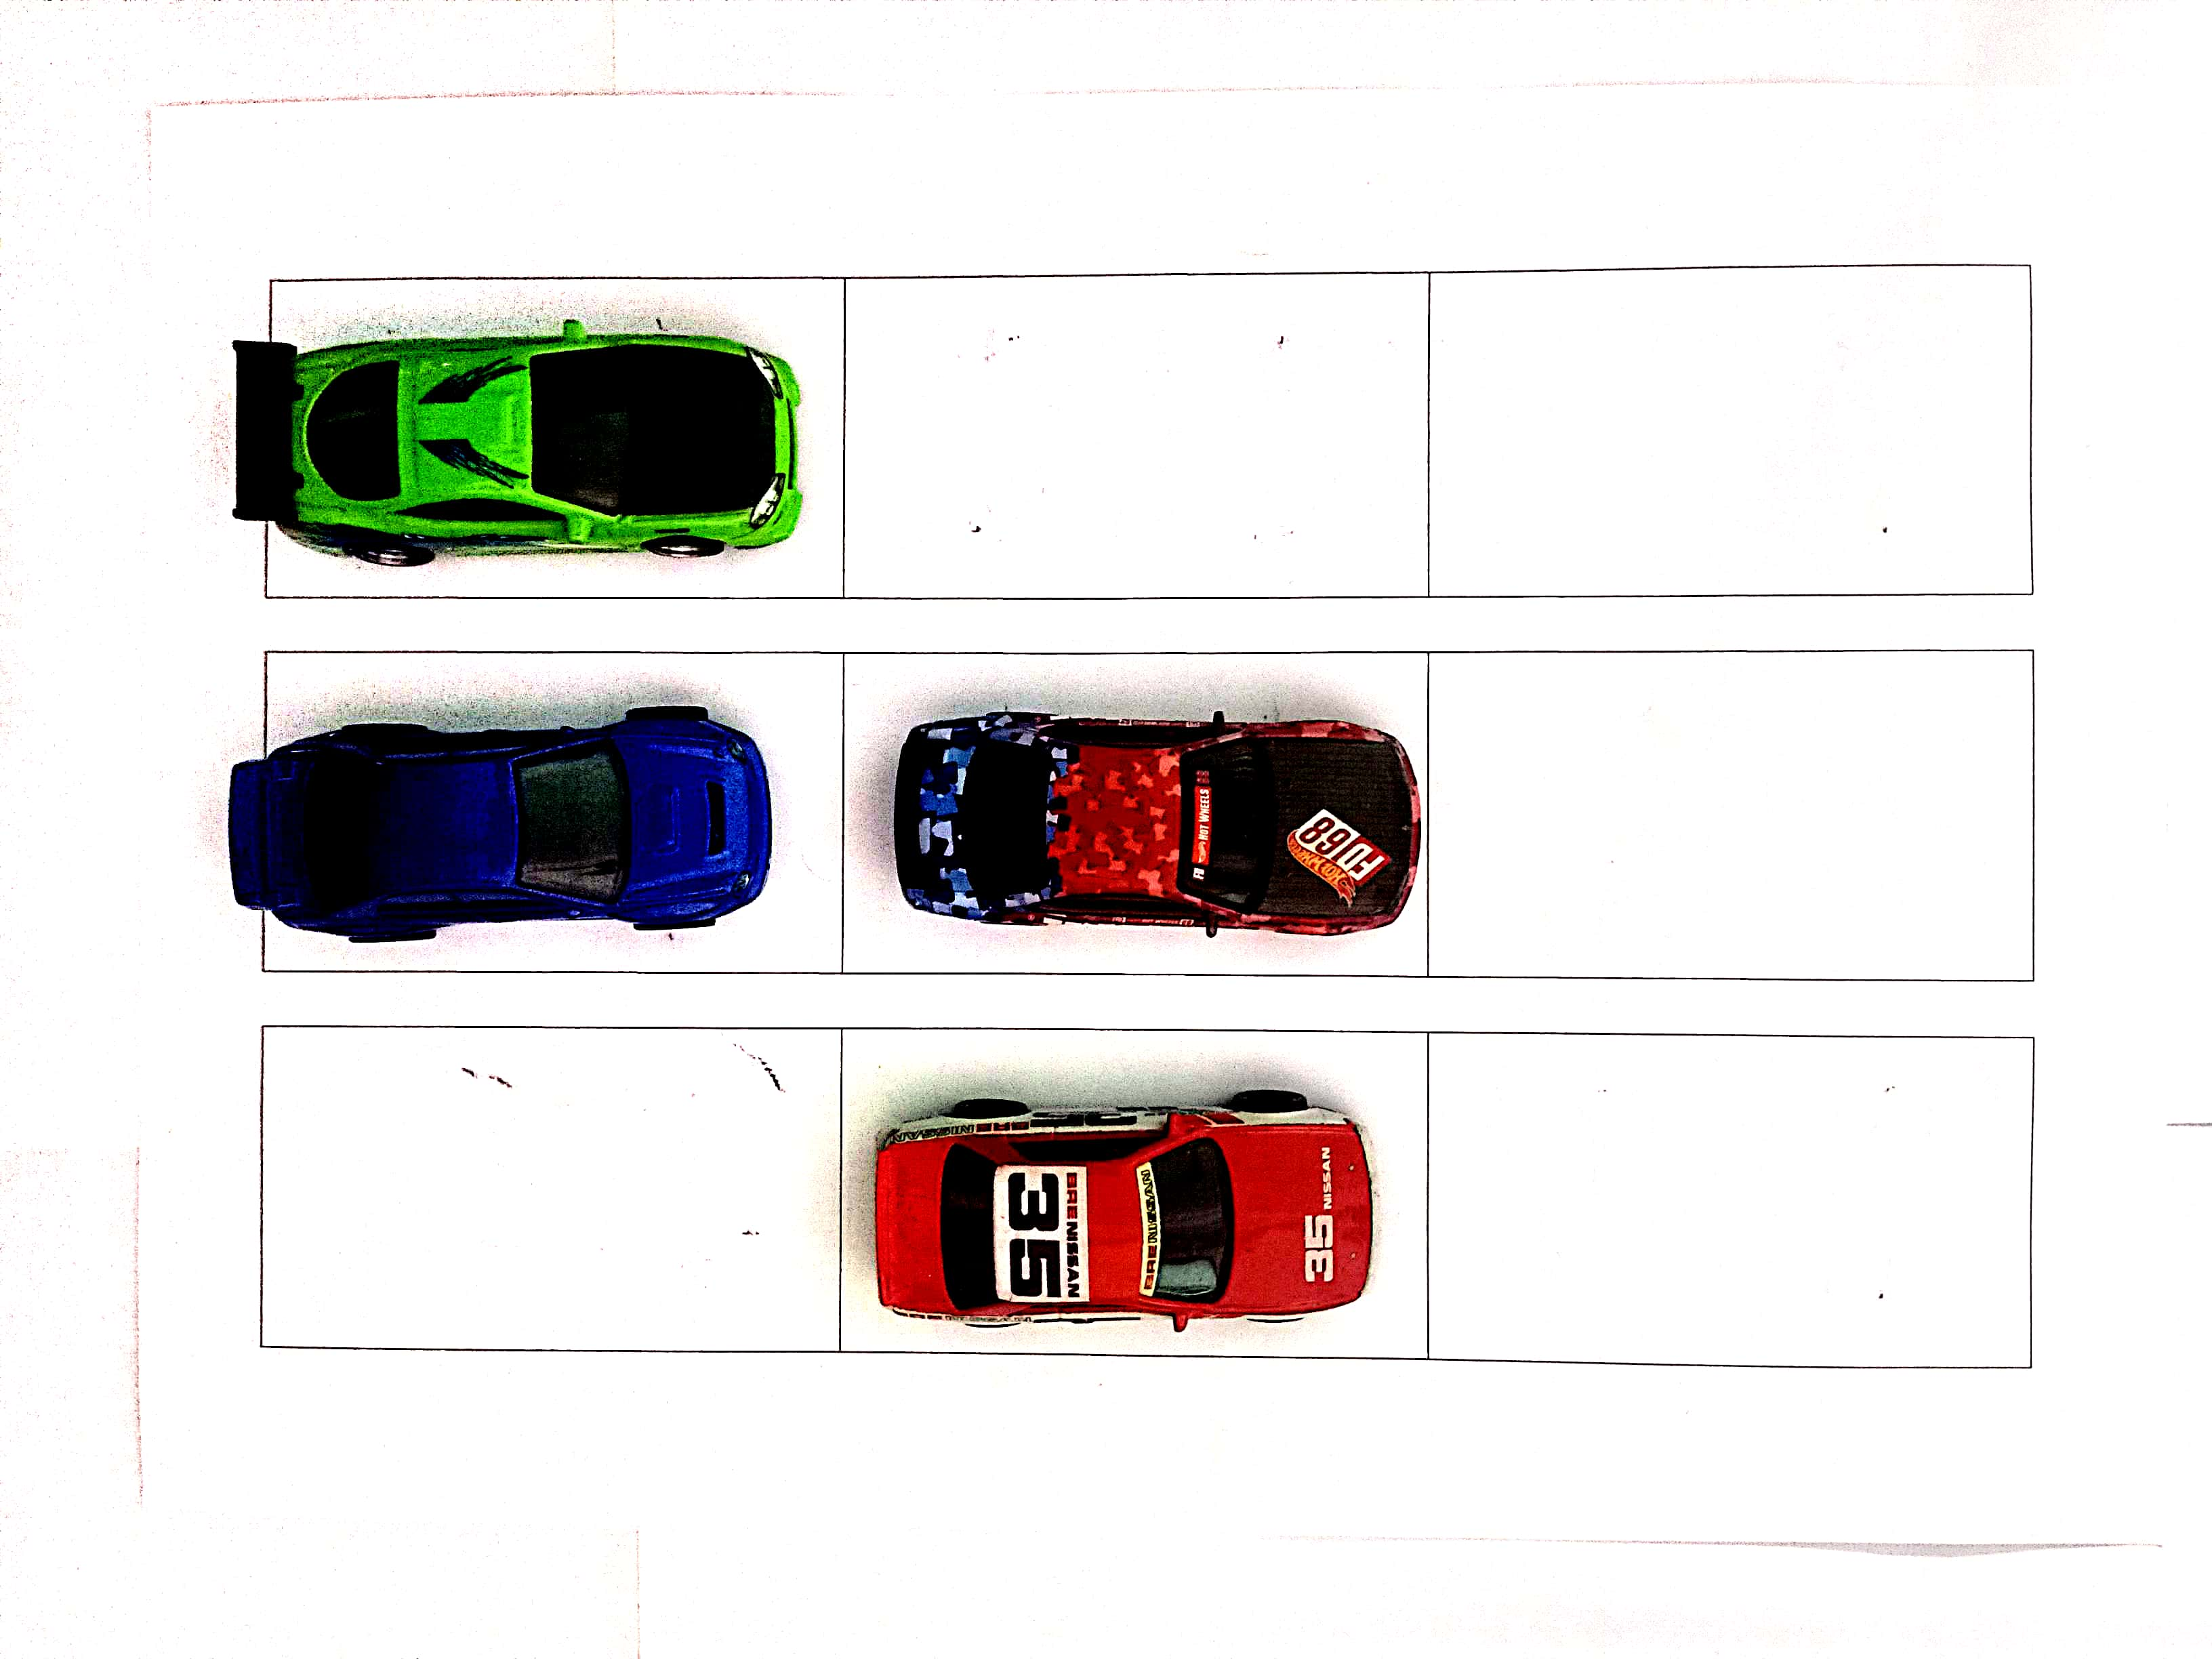Busy: (840, 1035, 1433, 1354), (840, 653, 1428, 972), (273, 281, 843, 593), (265, 657, 827, 967)
Free: (1425, 263, 2034, 594), (1428, 653, 2033, 979), (253, 1026, 834, 1354), (1433, 1037, 2029, 1354), (852, 270, 1425, 593)
